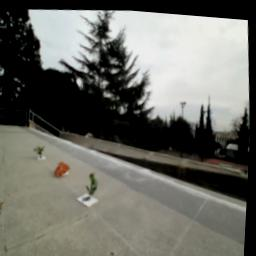herb: (86, 170, 102, 198), (36, 144, 48, 159)
wild: (56, 158, 75, 178)
